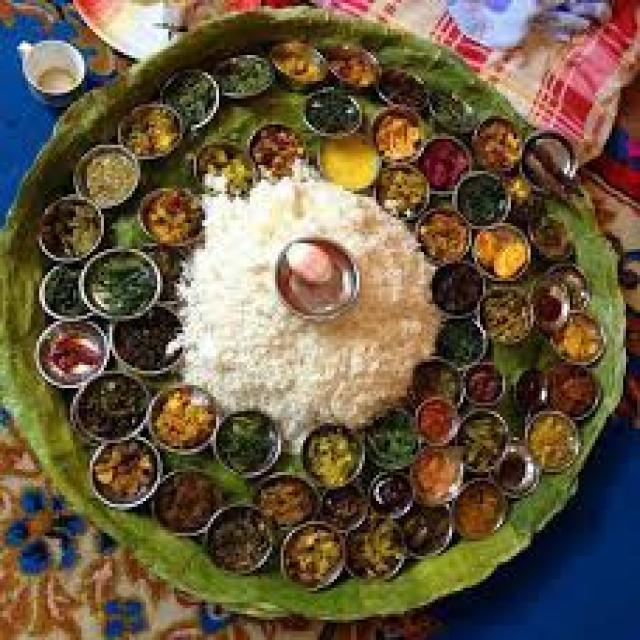dal: (70, 153, 142, 207), (521, 410, 583, 471)
pickle: (30, 322, 114, 386), (620, 362, 640, 429)
rice: (179, 198, 289, 408)
roti: (278, 221, 440, 425), (477, 279, 545, 343)
sambar-rasam: (450, 481, 509, 544), (248, 123, 313, 177)
sweet: (273, 238, 364, 316), (553, 311, 608, 365)
veg-fry: (91, 438, 163, 507), (279, 523, 348, 589)
